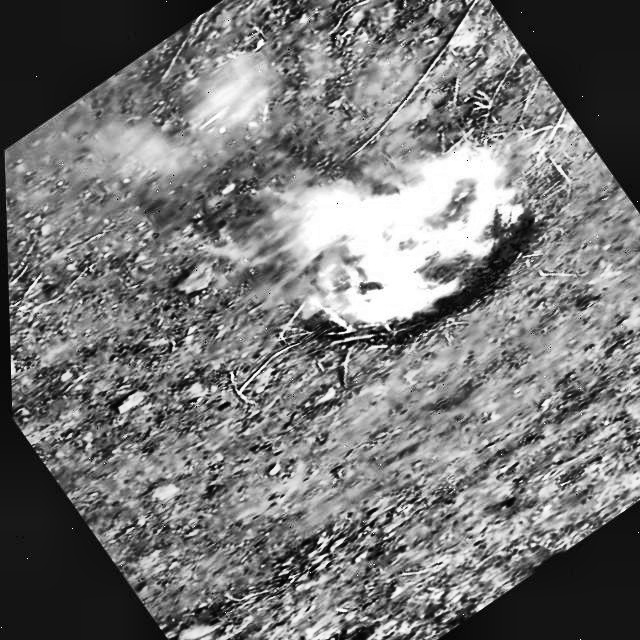Smoke: (50, 0, 554, 433)
